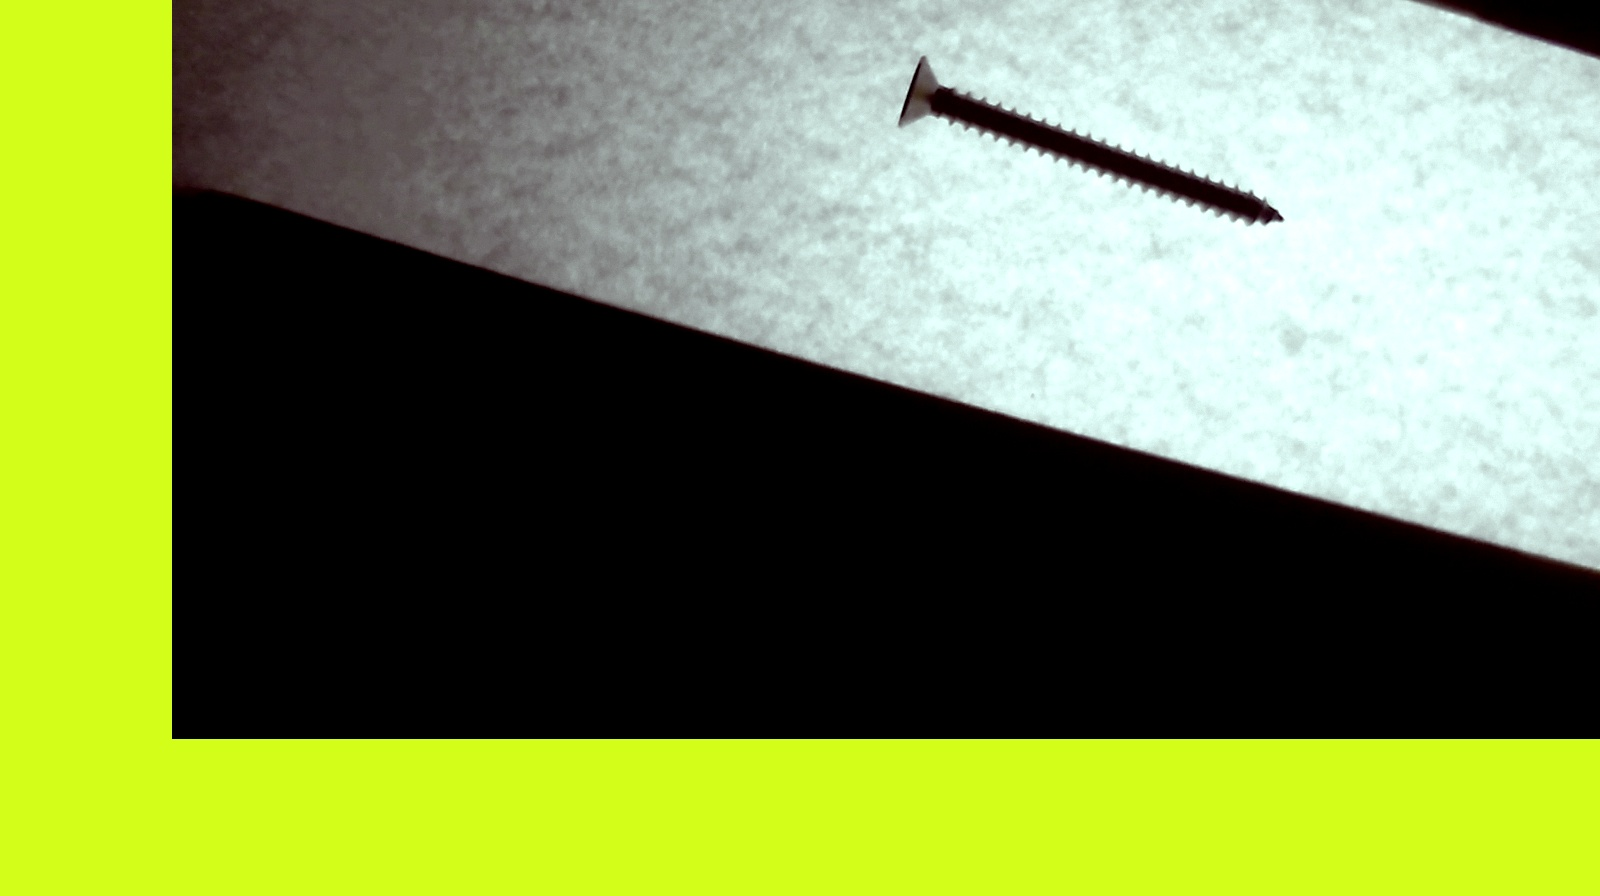S002: (874, 41, 1302, 251)
